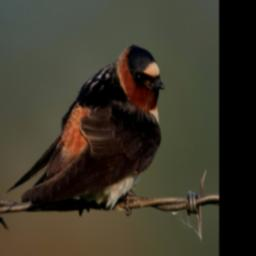Swallow: (5, 42, 166, 217)
